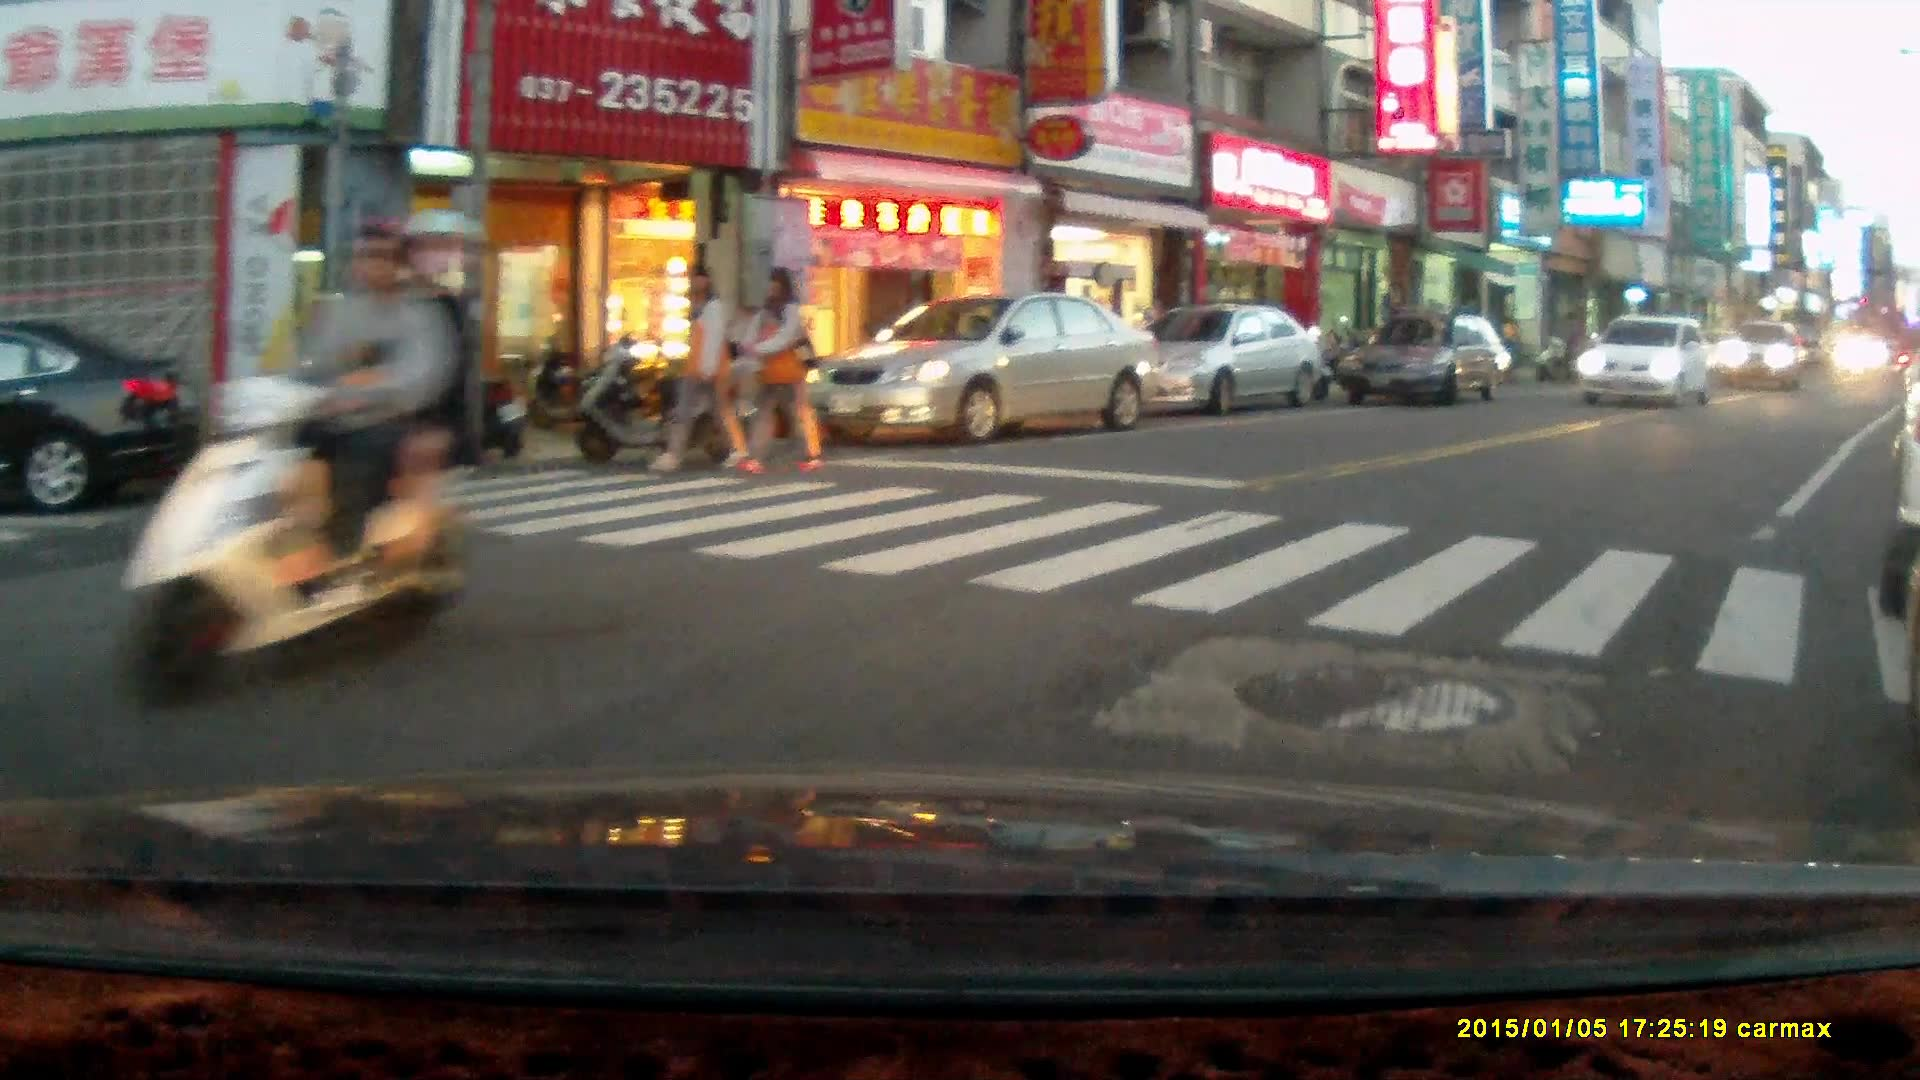pedestrian: (644, 259, 750, 472), (733, 261, 822, 475)
rider: (118, 205, 478, 717)
vehicle: (804, 295, 1162, 444), (1, 316, 194, 513), (1101, 303, 1327, 415), (1336, 314, 1517, 406), (1574, 315, 1716, 405), (1710, 319, 1810, 392), (1828, 331, 1885, 380)
